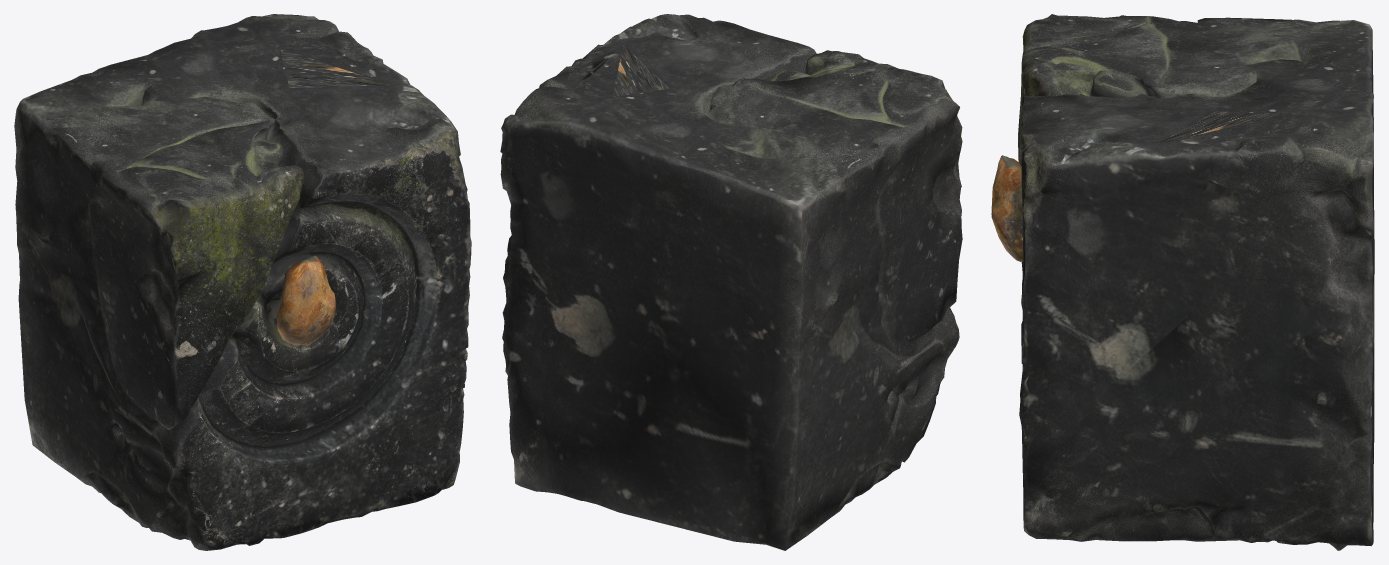
File: basalt_shrine.glb
The picture shows the model from 3 angles, left to right: view 1: azimuth 30°, elevation 25°; view 2: azimuth 150°, elevation 25°; view 3: azimuth 270°, elevation 25°; orthographic projection. The views are drawn at different scales.
Visible parts, largest first — view 1: Soulbound_Basalt_Shrine; view 2: Soulbound_Basalt_Shrine; view 3: Soulbound_Basalt_Shrine.
Part boxes in pixels (bbox=[...]): Soulbound_Basalt_Shrine: bbox=[14, 14, 471, 550]; Soulbound_Basalt_Shrine: bbox=[500, 14, 962, 550]; Soulbound_Basalt_Shrine: bbox=[991, 14, 1374, 550].
Bounding box in the file's own units: 1.23 × 1.4 × 1.18.
Materials: 1 (1 with a texture image).
